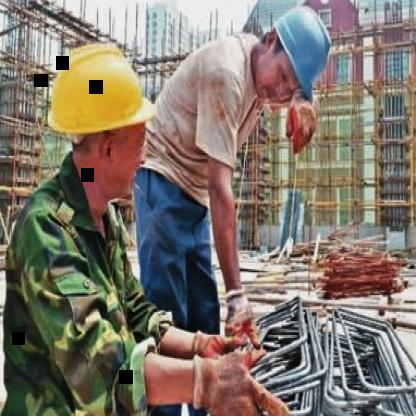helmet: (36, 29, 157, 200), (252, 0, 338, 113)
